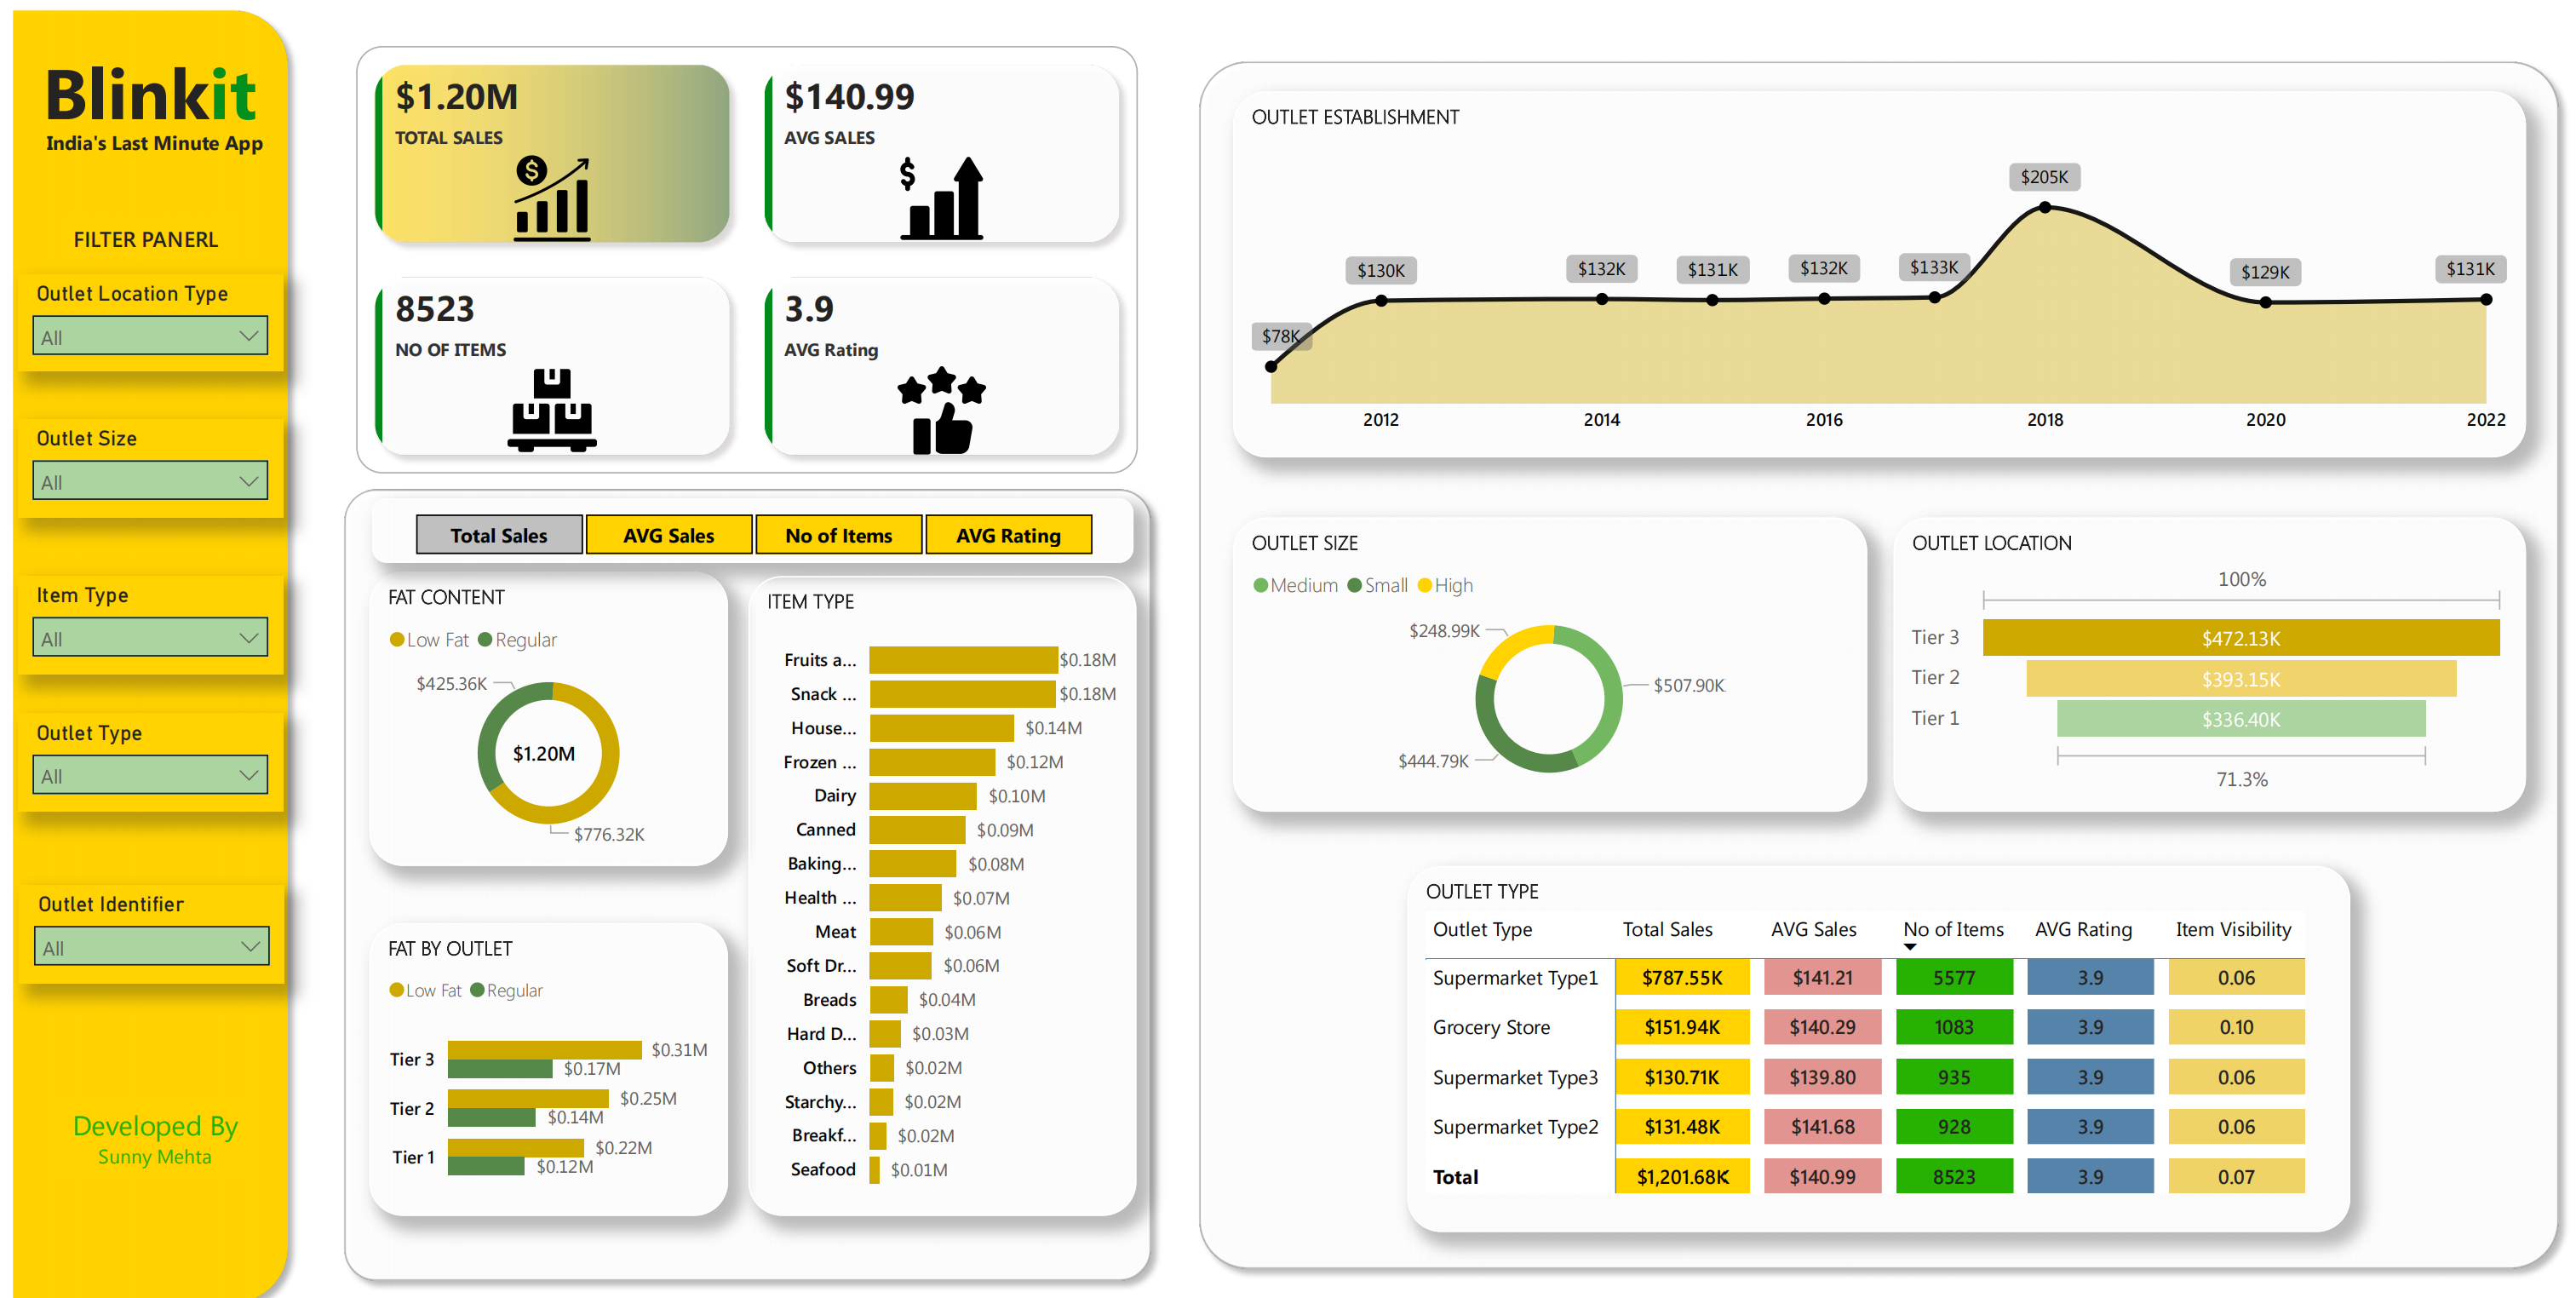

Layout of this report page (visuals, bound fields, positions):
{"tool":"powerbi","page":{"name":"Page 1","canvas":[1800,900],"ordinal":0},"visuals":[{"type":"shape","box":[10.3,0,205.1,900.4],"z":0},{"type":"textbox","box":[29.4,26,166.1,74.6],"z":1000},{"type":"textbox","box":[37.3,84.7,166.1,30.5],"z":2000},{"type":"cardVisual","fields":{"Data":["BlinkIT Grocery Data.Total Sales","BlinkIT Grocery Data.AVG Sales","BlinkIT Grocery Data.No of Items","BlinkIT Grocery Data.AVG Rating"]},"box":[236.1,16.4,569.3,326],"z":3000},{"type":"shape","box":[236.1,327.1,569.3,558],"z":4000},{"type":"donutChart","title":"FAT CONTENT","fields":{"Category":["BlinkIT Grocery Data.Item Fat Content"],"Y":["BlinkIT Grocery Data.Total Sales"]},"box":[261.6,392.5,245.3,200.3],"z":5000},{"type":"slicer","fields":{"Values":["Matric.Matric"]},"box":[264,342.4,520.2,44],"z":6000},{"type":"cardVisual","fields":{"Data":["BlinkIT Grocery Data.Total Sales"]},"box":[318.9,482.4,126.7,64.4],"z":7000},{"type":"clusteredBarChart","title":"FAT BY OUTLET","fields":{"Category":["BlinkIT Grocery Data.Outlet Location Type"],"Series":["BlinkIT Grocery Data.Item Fat Content"],"Y":["BlinkIT Grocery Data.Total Sales"]},"box":[261.6,631.6,245.3,200.3],"z":8000},{"type":"clusteredBarChart","title":"ITEM TYPE","fields":{"Category":["BlinkIT Grocery Data.Item Type"],"Y":["BlinkIT Grocery Data.Total Sales"]},"box":[521.3,394.5,264.7,437.4],"z":9000},{"type":"shape","box":[819.7,34.8,945.4,842.2],"z":10000},{"type":"lineChart","title":"OUTLET ESTABLISHMENT","fields":{"Category":["BlinkIT Grocery Data.Outlet Establishment Year"],"Y":["BlinkIT Grocery Data.Total Sales"]},"box":[852.2,63.6,882,250.2],"z":11000},{"type":"donutChart","title":"OUTLET SIZE","fields":{"Category":["BlinkIT Grocery Data.Outlet Size"],"Y":["BlinkIT Grocery Data.Total Sales"]},"box":[852.2,354.8,431.8,201],"z":12000},{"type":"funnel","title":"OUTLET LOCATION","fields":{"Category":["BlinkIT Grocery Data.Outlet Location Type"],"Y":["BlinkIT Grocery Data.Total Sales"]},"box":[1302.5,354.8,431.8,201],"z":13000},{"type":"pivotTable","title":"OUTLET TYPE","fields":{"Rows":["BlinkIT Grocery Data.Outlet Type"],"Values":["BlinkIT Grocery Data.Total Sales","BlinkIT Grocery Data.AVG Sales","BlinkIT Grocery Data.No of Items","BlinkIT Grocery Data.AVG Rating","Avg(BlinkIT Grocery Data.Item Visibility)"]},"box":[971.2,592.8,643,250.2],"z":14000},{"type":"slicer","fields":{"Values":["BlinkIT Grocery Data.Outlet Location Type"]},"box":[21.5,188.7,181.5,66.7],"z":15000},{"type":"slicer","fields":{"Values":["BlinkIT Grocery Data.Outlet Size"]},"box":[21.5,288.2,181.5,66.7],"z":16000},{"type":"slicer","fields":{"Values":["BlinkIT Grocery Data.Item Type"]},"box":[21.5,394.8,181.5,66.7],"z":17000},{"type":"slicer","fields":{"Values":["BlinkIT Grocery Data.Outlet Type"]},"box":[21.5,489.2,181.5,66.7],"z":18000},{"type":"textbox","box":[55.4,148.7,119,30.8],"z":18001},{"type":"slicer","fields":{"Values":["BlinkIT Grocery Data.Outlet Identifier"]},"box":[22.6,606.1,181.5,66.7],"z":18002},{"type":"textbox","box":[46.2,751.7,139.5,53.3],"z":18003}]}

Visuals, with their boxes in screenshot pixels (x1, y1, x2, y2), scaled from the page's 1800x900 canvas onto the 2576x1298 screenshot:
shape: box=[14, 0, 308, 1297]
textbox: box=[42, 37, 280, 145]
textbox: box=[54, 122, 291, 166]
cardVisual - BlinkIT Grocery Data.Total Sales x BlinkIT Grocery Data.AVG Sales: box=[338, 24, 1153, 494]
shape: box=[338, 472, 1153, 1277]
"FAT CONTENT" donutChart: box=[375, 566, 726, 855]
slicer - Matric.Matric: box=[378, 494, 1122, 557]
cardVisual - BlinkIT Grocery Data.Total Sales: box=[456, 696, 638, 789]
"FAT BY OUTLET" clusteredBarChart: box=[375, 911, 726, 1200]
"ITEM TYPE" clusteredBarChart: box=[746, 569, 1125, 1200]
shape: box=[1173, 50, 2526, 1265]
"OUTLET ESTABLISHMENT" lineChart: box=[1219, 92, 2481, 452]
"OUTLET SIZE" donutChart: box=[1219, 512, 1838, 801]
"OUTLET LOCATION" funnel: box=[1864, 512, 2482, 801]
"OUTLET TYPE" pivotTable: box=[1390, 855, 2310, 1215]
slicer - BlinkIT Grocery Data.Outlet Location Type: box=[31, 273, 290, 368]
slicer - BlinkIT Grocery Data.Outlet Size: box=[31, 416, 290, 512]
slicer - BlinkIT Grocery Data.Item Type: box=[31, 570, 290, 665]
slicer - BlinkIT Grocery Data.Outlet Type: box=[31, 705, 290, 801]
textbox: box=[79, 215, 250, 259]
slicer - BlinkIT Grocery Data.Outlet Identifier: box=[32, 874, 292, 970]
textbox: box=[66, 1084, 266, 1161]
